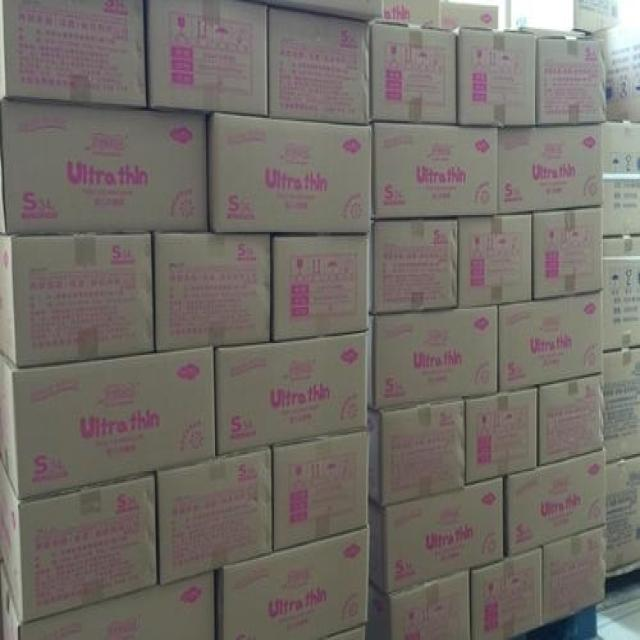box: (0, 345, 216, 500), (0, 99, 208, 234), (0, 458, 157, 625), (0, 232, 154, 367), (207, 114, 373, 234), (215, 329, 369, 455), (0, 558, 214, 638), (219, 526, 369, 638), (157, 447, 273, 586), (0, 0, 146, 109), (367, 478, 504, 593), (154, 233, 271, 353), (368, 304, 497, 412), (372, 122, 498, 219), (268, 7, 371, 125), (273, 430, 370, 553), (506, 449, 606, 557), (500, 291, 604, 393), (272, 234, 370, 341), (368, 399, 465, 506), (498, 123, 605, 215), (371, 19, 456, 124), (454, 27, 536, 126), (373, 219, 458, 314), (366, 570, 470, 638), (466, 387, 537, 485), (458, 214, 532, 308), (542, 524, 607, 626), (533, 207, 604, 300), (472, 547, 543, 638), (536, 37, 607, 126), (539, 373, 604, 466), (591, 19, 639, 121), (602, 123, 639, 236), (604, 348, 639, 463), (604, 237, 639, 351), (606, 454, 639, 573), (510, 1, 618, 37), (245, 0, 382, 21), (441, 2, 498, 30), (382, 0, 440, 26)
